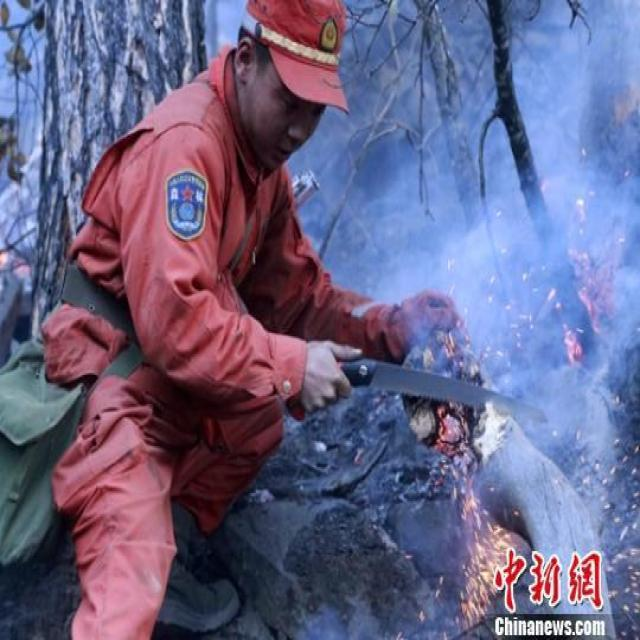Fire: (454, 472, 513, 612), (552, 253, 614, 369), (564, 184, 594, 238)
Smoke: (423, 204, 500, 298), (525, 76, 580, 156)
